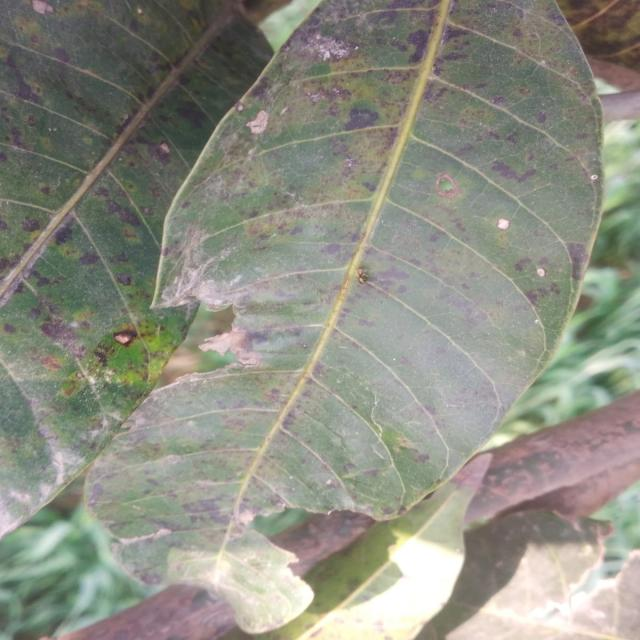Powdery Mildew: (304, 19, 351, 68), (245, 110, 276, 133), (493, 222, 514, 230)
black die: (52, 211, 110, 269), (407, 17, 451, 75), (334, 99, 391, 130), (105, 325, 136, 351)
